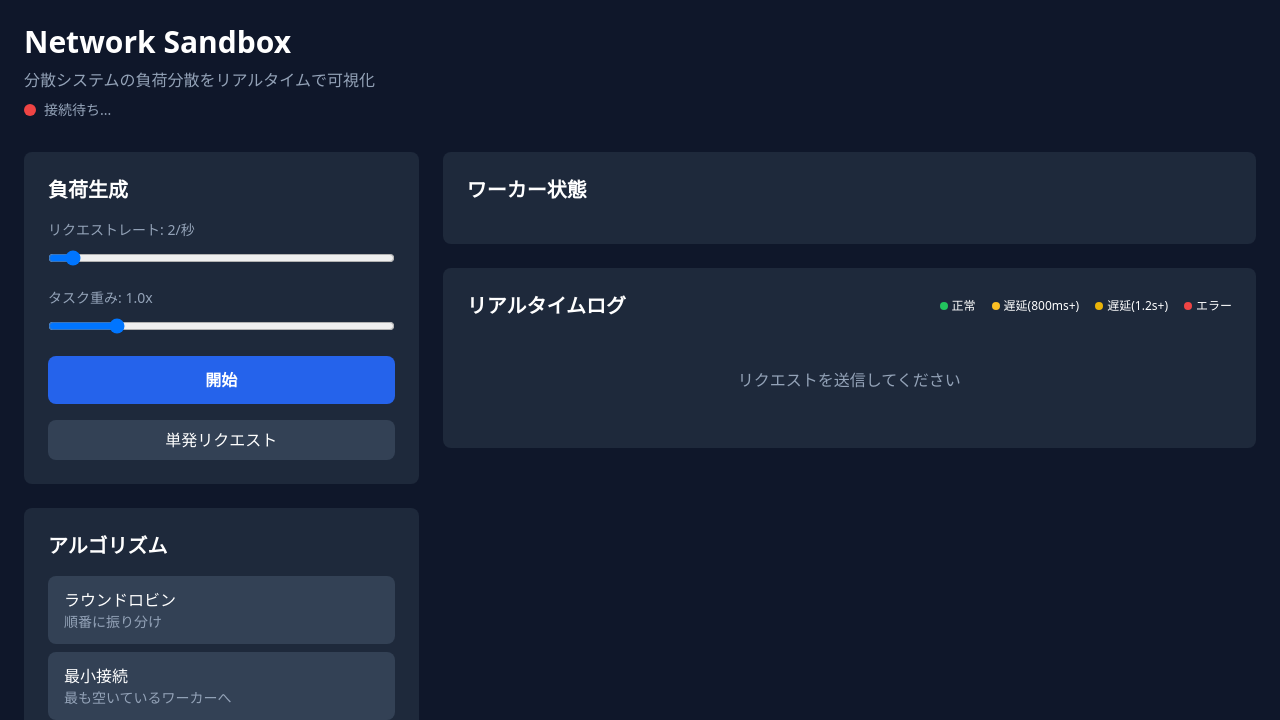
Test case: App Component › Load Generator Controls › should start load generation when button is clicked
The width and height of the screenshot is (1280, 720).
Click the button "開始": (221, 380) [48,356,395,404]
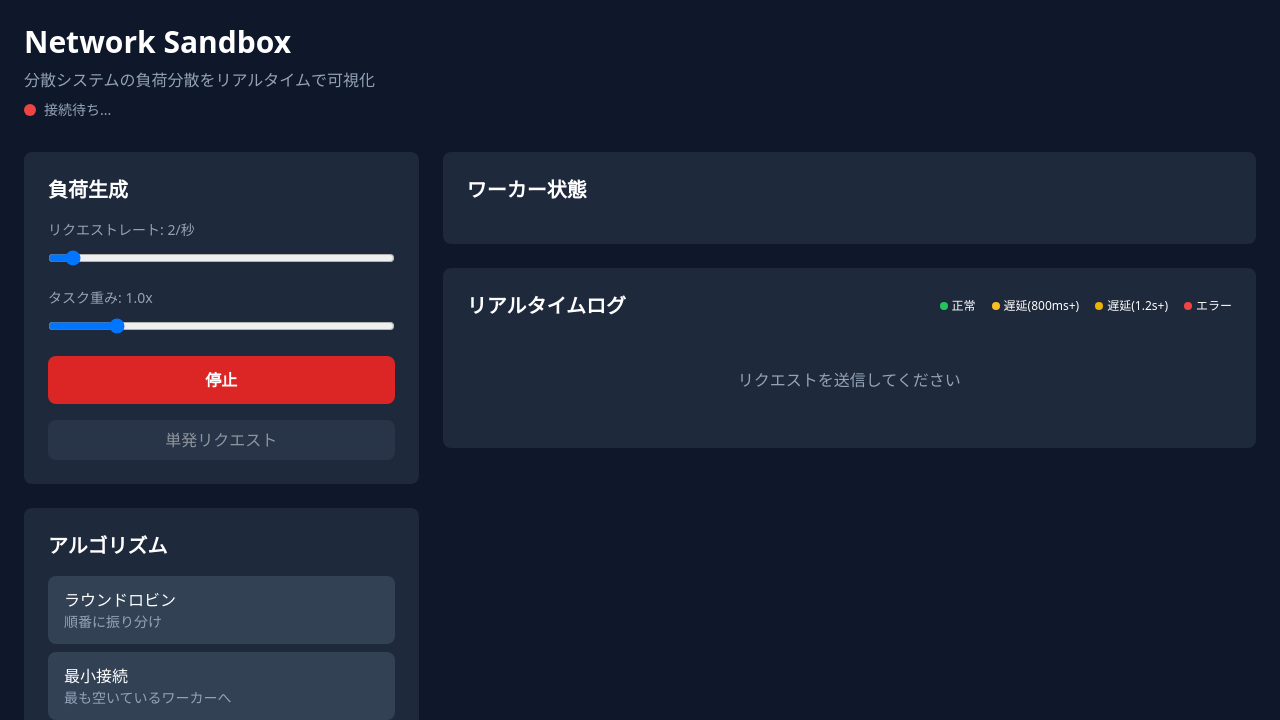
Now the button "停止" is shown, box [48,356,395,404]
